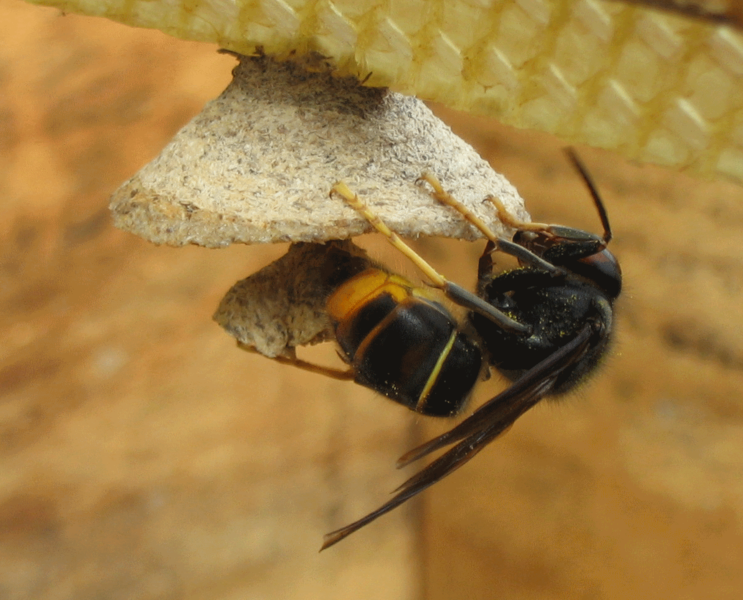hornet: (245, 169, 651, 466)
